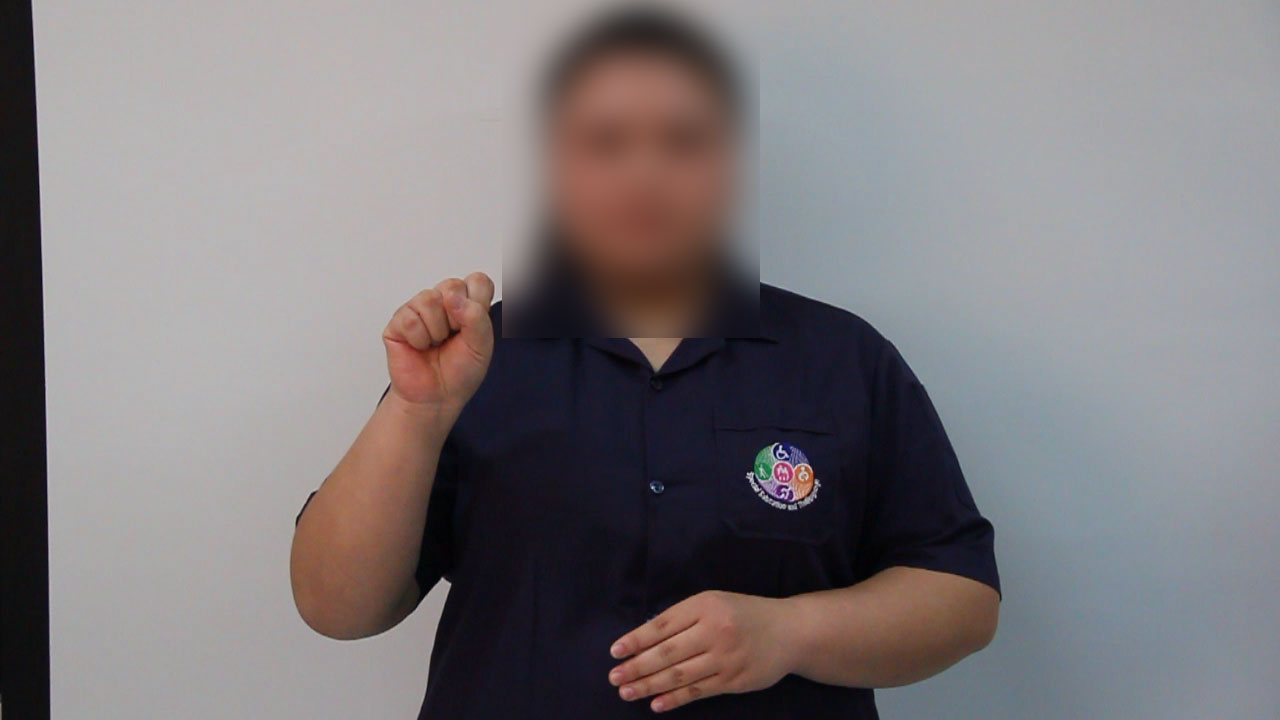sor: (363, 252, 512, 416)
